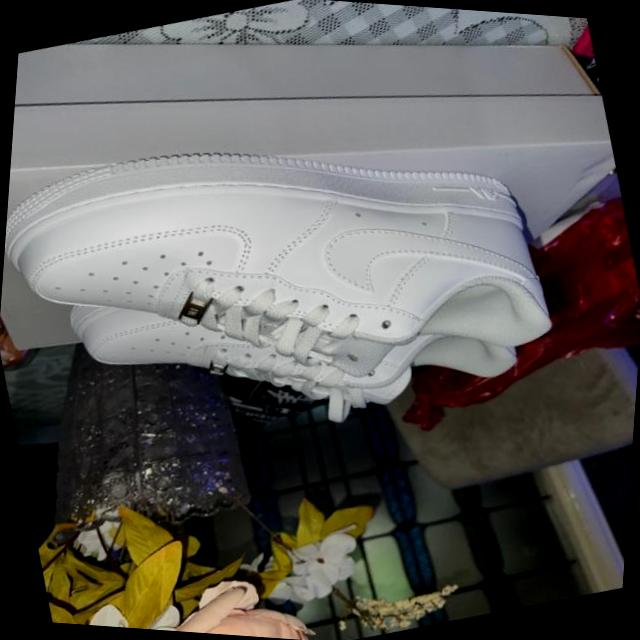nike_original_airforce: (0, 23, 640, 487), (96, 532, 132, 555)
